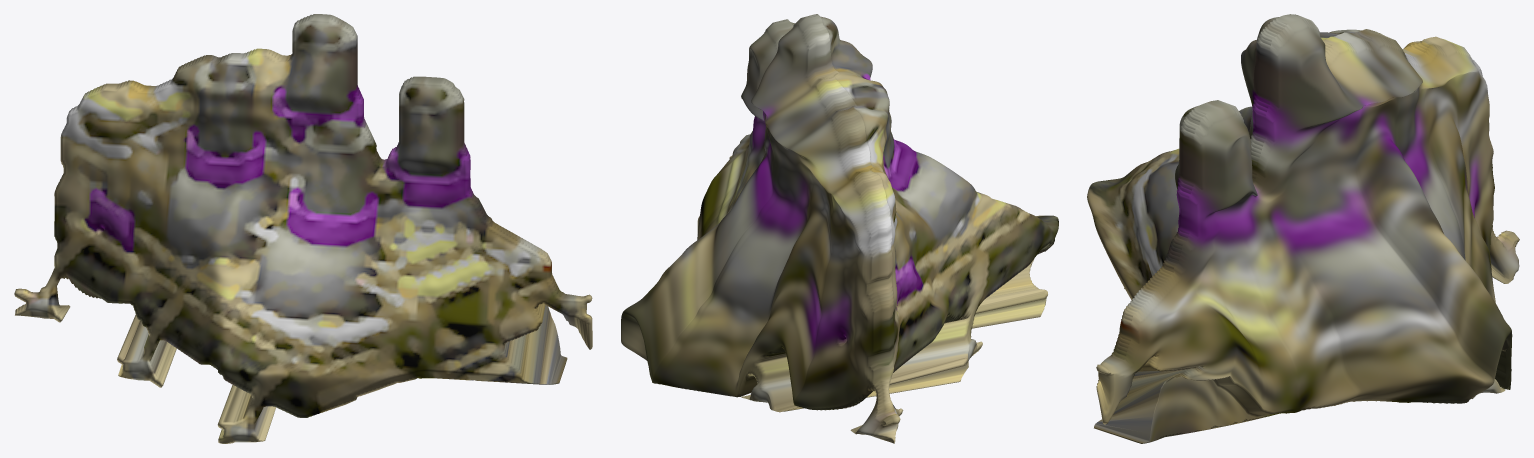
The model's file is yuri_slave_refinery.glb.
The picture shows the model from 3 angles, left to right: view 1: azimuth 30°, elevation 25°; view 2: azimuth 150°, elevation 25°; view 3: azimuth 270°, elevation 25°; orthographic projection. The views are drawn at different scales.
Parts seen in each view (by area): view 1: yuri_slave_refinery; view 2: yuri_slave_refinery; view 3: yuri_slave_refinery.
Boxes of the visible parts, bbox=[...] form: yuri_slave_refinery: bbox=[14, 14, 592, 443]; yuri_slave_refinery: bbox=[621, 14, 1058, 443]; yuri_slave_refinery: bbox=[1087, 14, 1519, 443].
Size of the model in its own units: 1.64 by 1.37 by 1.58.
